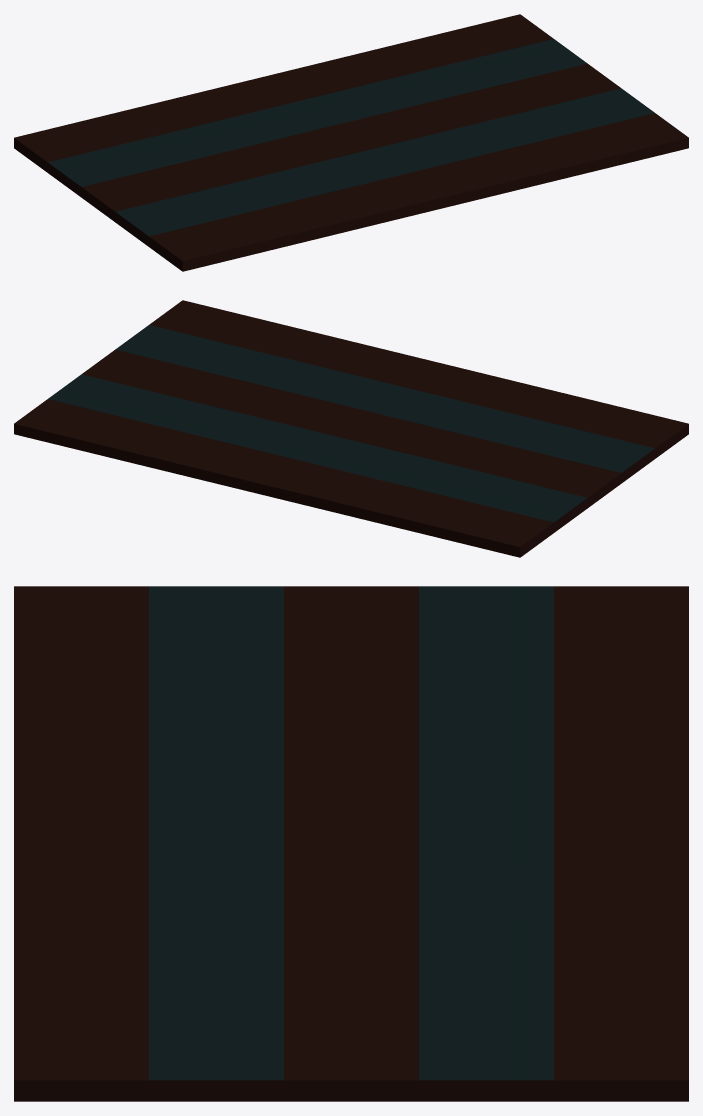
File: trackstraight1.fbx
3 views of the same model, one above another, from view 1: azimuth 30°, elevation 25°; view 2: azimuth 150°, elevation 25°; view 3: azimuth 270°, elevation 25° (orthographic). The views are drawn at different scales.
Parts seen in each view (by area): view 1: straight1; view 2: straight1; view 3: straight1.
Part boxes in pixels (x1,y1,x2,y2): straight1: [14, 14, 688, 271]; straight1: [14, 300, 688, 557]; straight1: [14, 586, 688, 1101].
Size of the model in its own units: 500 by 10 by 289.
Materials: 1 (1 with a texture image).
